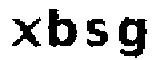b: (46, 6, 78, 51)
g: (114, 16, 150, 60)
s: (83, 18, 112, 49)
x: (9, 13, 42, 49)
